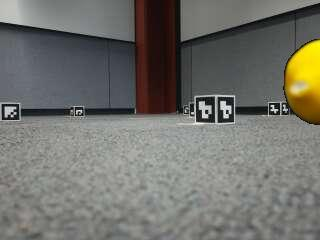lemon: (285, 39, 320, 124)
